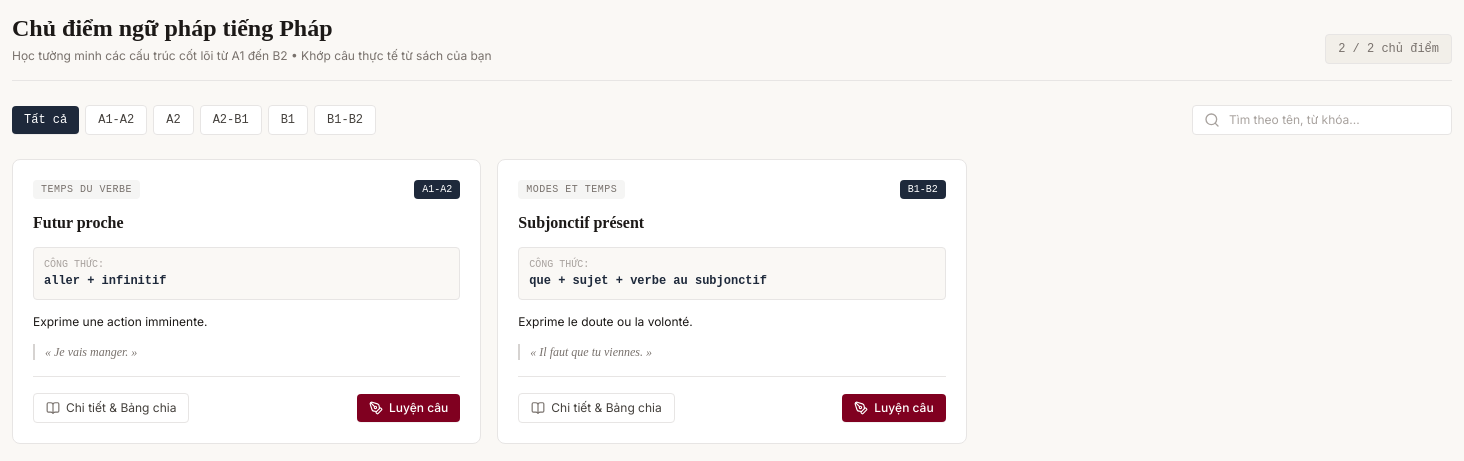
Test: Task 6 - Grammar Exploration & Active Production › GrammarCatalogView component › filters rules by search query
This screenshot has width=1464, height=461.
Expected: the heading "Futur proche" is shown, x1=33 y1=214 x2=124 y2=231
Type "subjonctif" into the field with placeholder "Tìm theo tên, từ khóa...". click: (1322, 120)
box: x1=1192 y1=105 x2=1452 y2=135
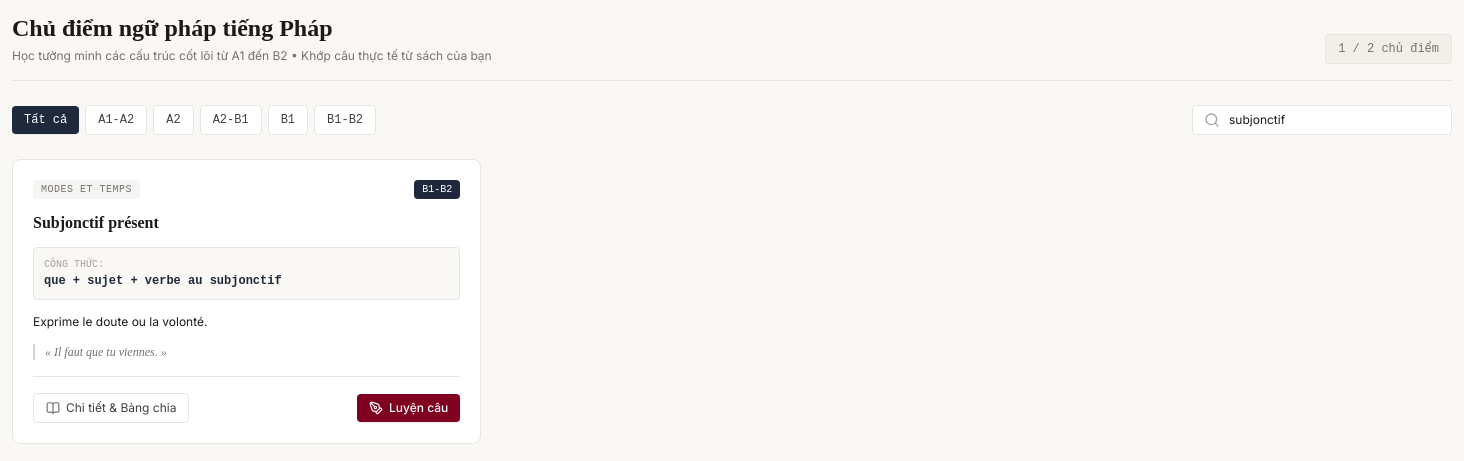
Expected: the heading "Subjonctif présent" is shown, x1=33 y1=214 x2=159 y2=231
Expected: the heading "Futur proche" is gone
